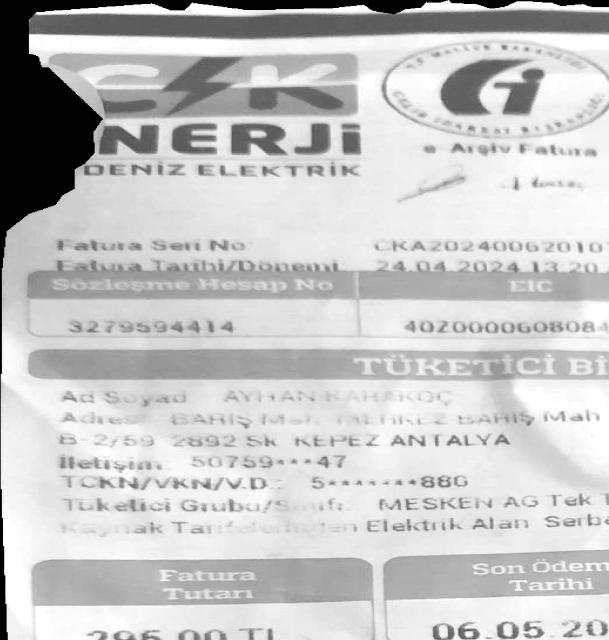electricity-bill: (1, 0, 609, 640)
